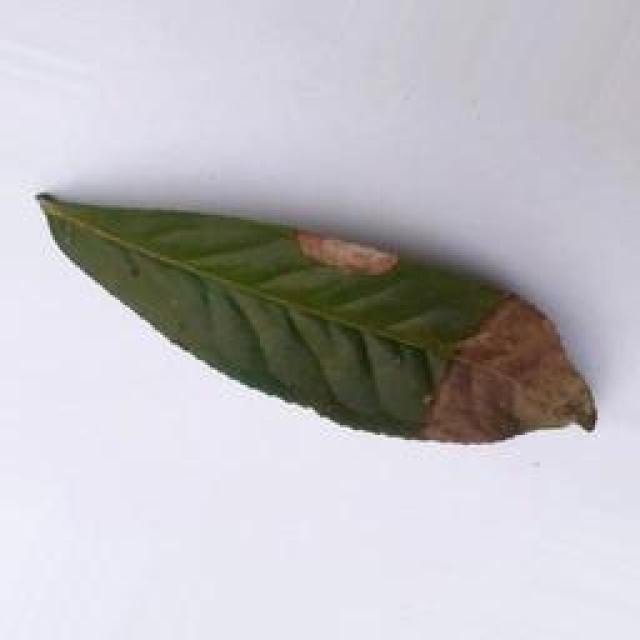Gray Blight: (27, 186, 599, 447)
